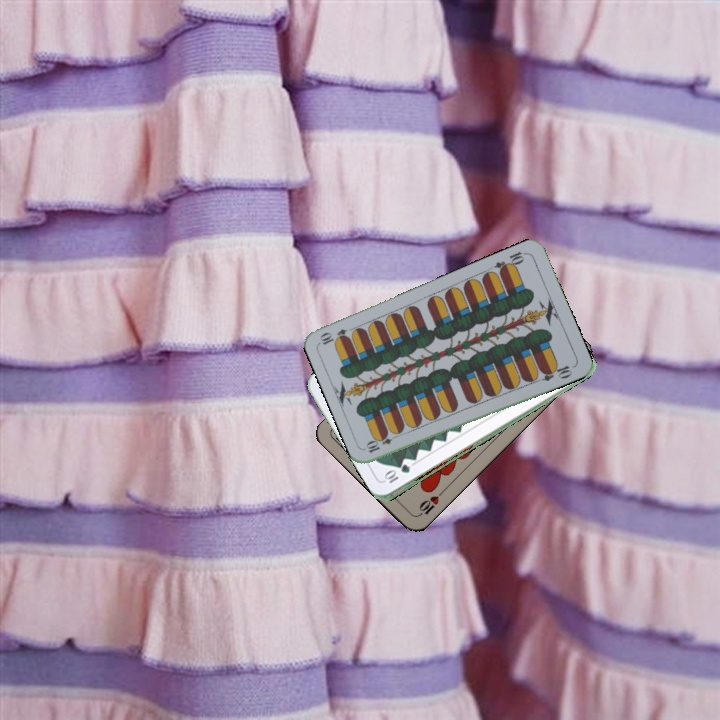E10: (490, 247, 529, 276), (362, 429, 401, 455)
G10: (381, 461, 413, 486)
H10: (414, 487, 446, 519)
